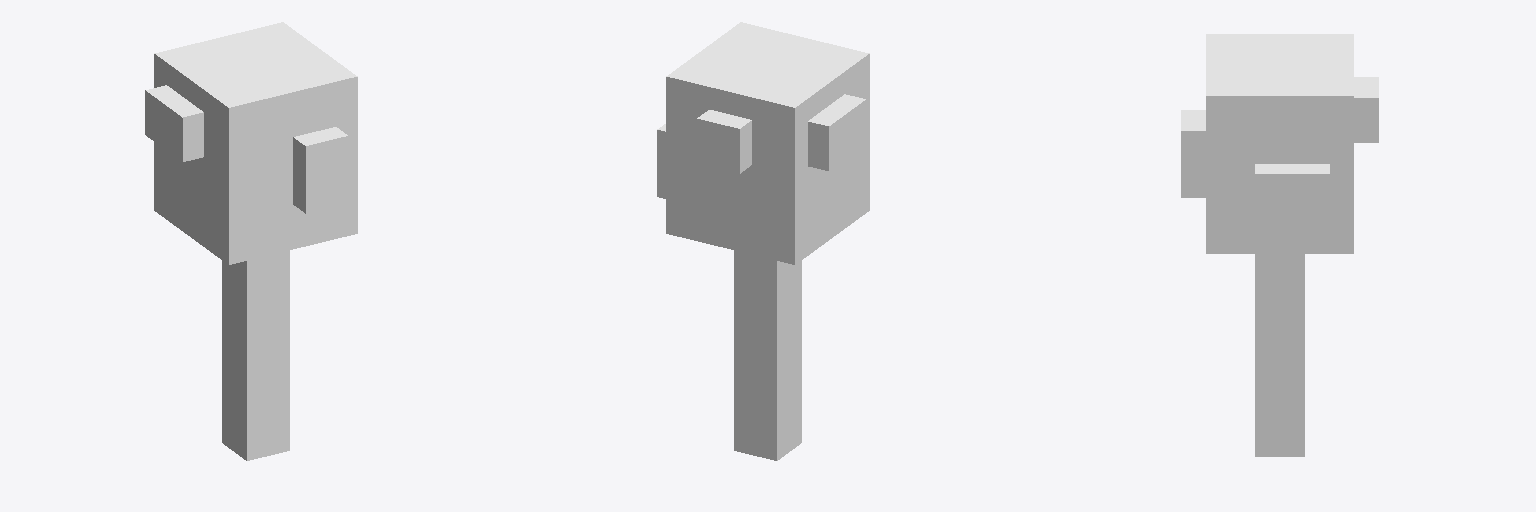
File: Tree_Small.obj
The picture shows the model from 3 angles: view 1: azimuth 30°, elevation 25°; view 2: azimuth 150°, elevation 25°; view 3: azimuth 270°, elevation 25°; orthographic projection.
Parts seen in each view (by area): view 1: Tree_Small; view 2: Tree_Small; view 3: Tree_Small.
Boxes of the visible parts, x1,y1,x2,y2 form: Tree_Small: [145, 22, 357, 460]; Tree_Small: [657, 22, 869, 460]; Tree_Small: [1181, 34, 1378, 456].
Bounding box in the file's own units: 8 × 17 × 8.